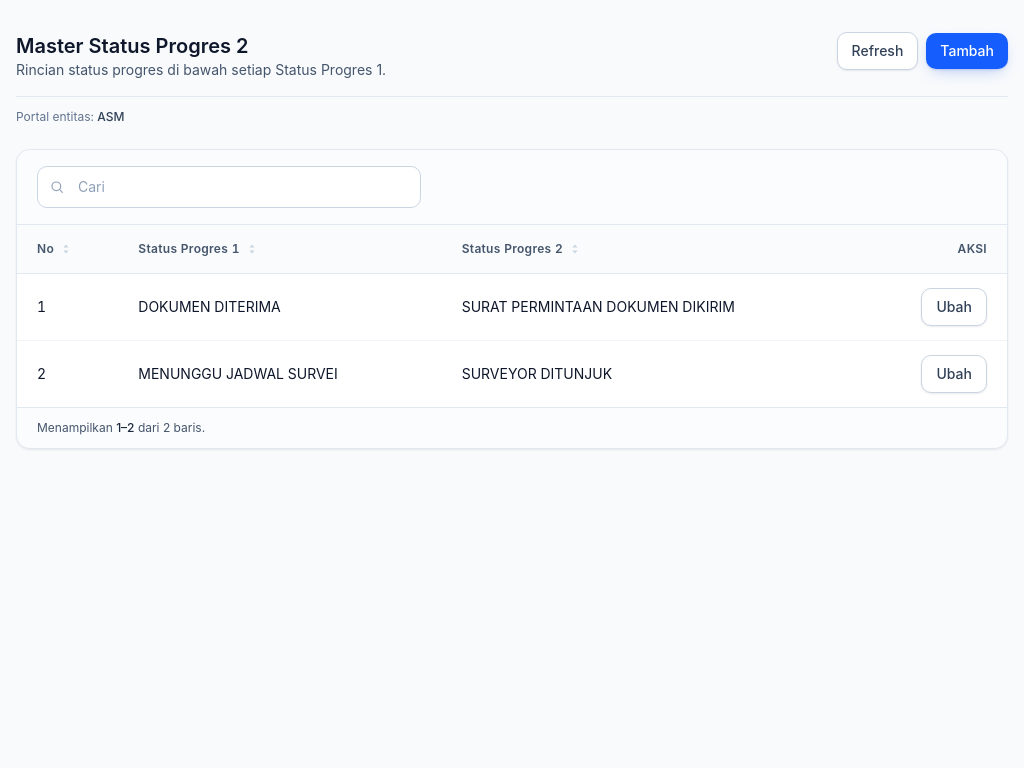
Scenario: penyuntingan status progres 2 › mengganti isian saat baris lain ditekan tanpa form ditutup
This screenshot has width=1024, height=768.
expect the table is shown: met, box [17,225,1007,407]
Click the button with aria-label "Ubah SURAT PERMINTAAN DOKUMEN DIKIRIM": (954, 307) [922,288,987,326]
(page scrolled)
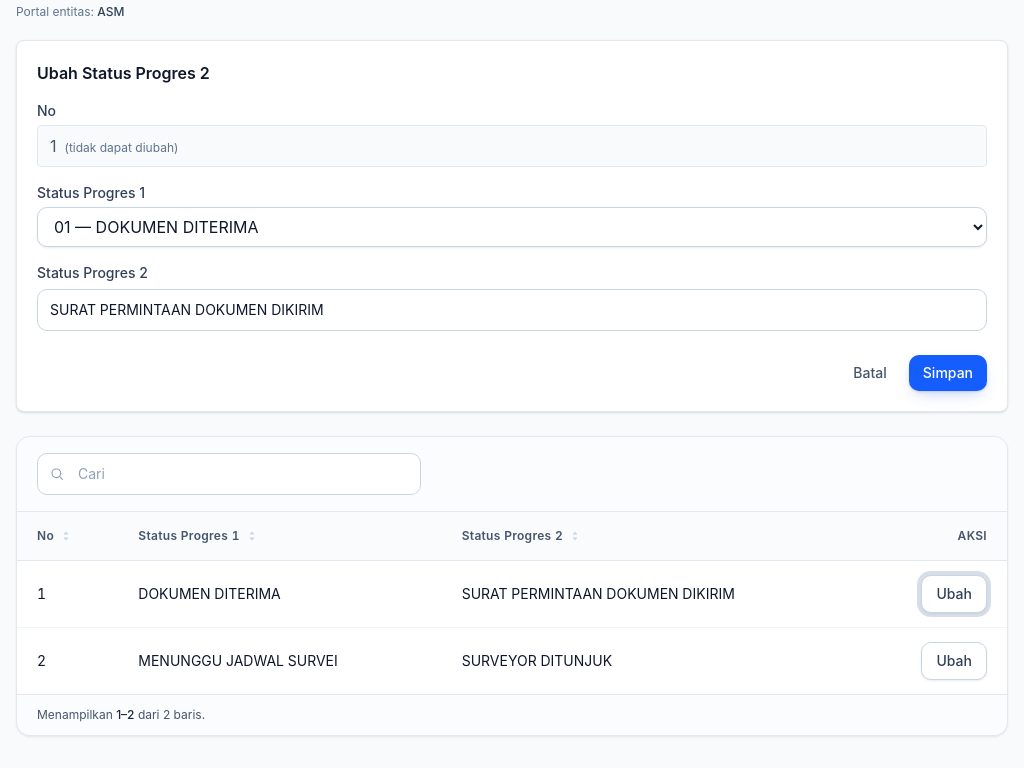
expect the form "Ubah Status Progres 2" is shown: met, box [16,40,1008,412]
Click the button with aria-label "Ubah SURVEYOR DITUNJUK": (954, 661) [922,642,987,680]
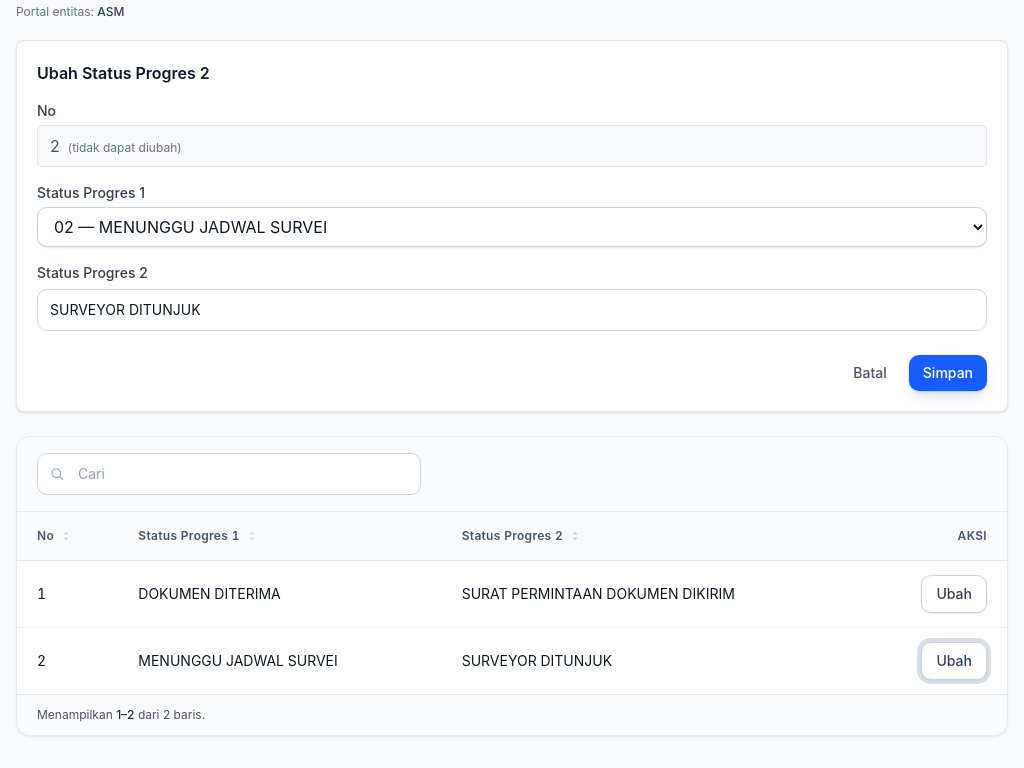
expect the field labelled "Status Progres 2" holds "SURVEYOR DITUNJUK": met, box [37,289,987,331]
expect the dropdown labelled "Status Progres 1" shows "02 — MENUNGGU JADWAL SURVEI": met, box [37,207,987,247]
